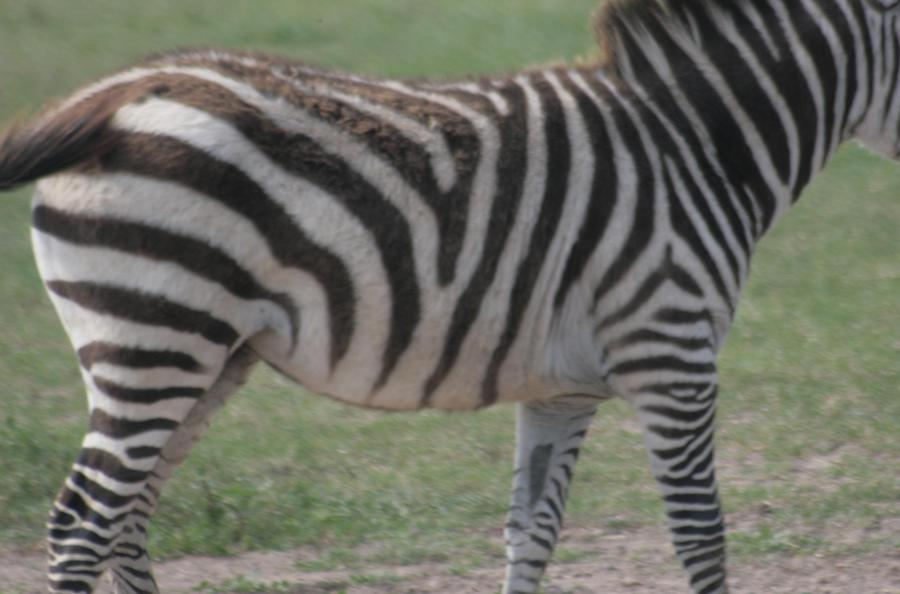zebra_plains: (78, 53, 726, 391)
